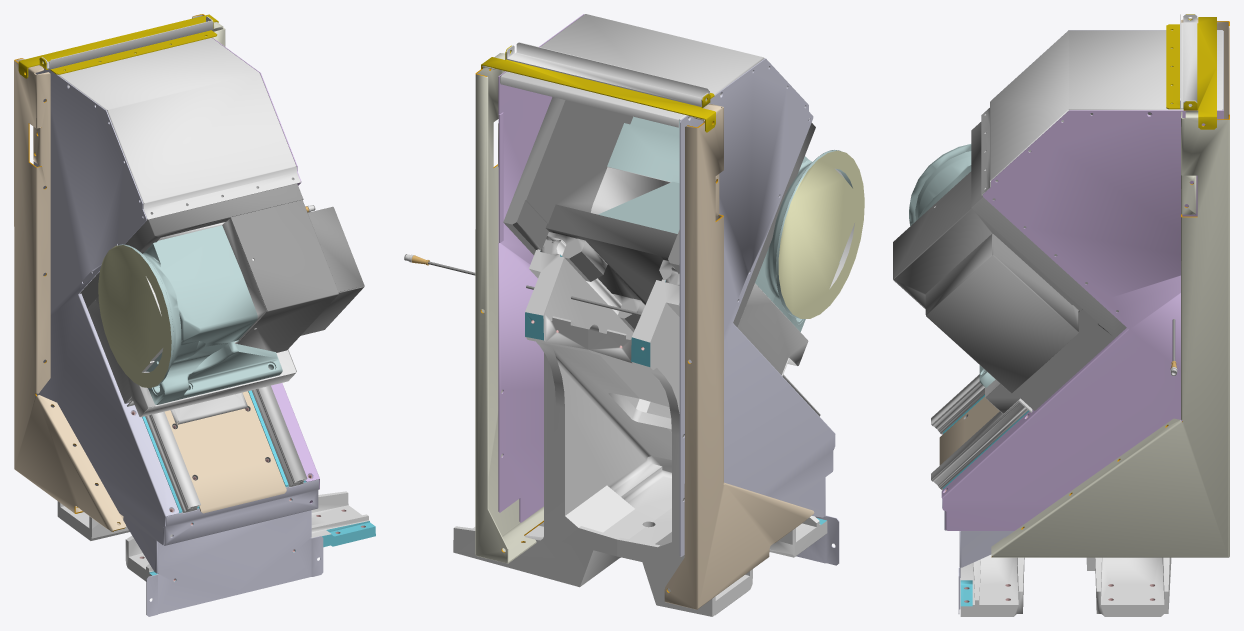
The model's file is turret_slide.dae.
The picture shows the model from 3 angles, left to right: view 1: azimuth 30°, elevation 25°; view 2: azimuth 150°, elevation 25°; view 3: azimuth 270°, elevation 25°; orthographic projection. The views are drawn at different scales.
Visible parts, largest first — view 1: TurretSlide; view 2: TurretSlide; view 3: TurretSlide.
Boxes of the visible parts, box(x1,y1,x2,y2) form: TurretSlide: box(14, 14, 375, 616); TurretSlide: box(404, 14, 864, 616); TurretSlide: box(893, 14, 1229, 616).
Bounding box in the file's own units: 0.6728 × 0.6671 × 1.12.
